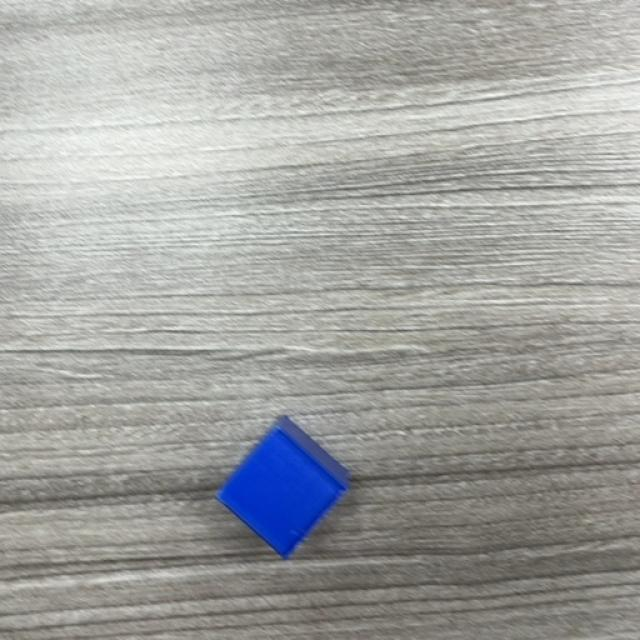Azul: (216, 416, 351, 560)
